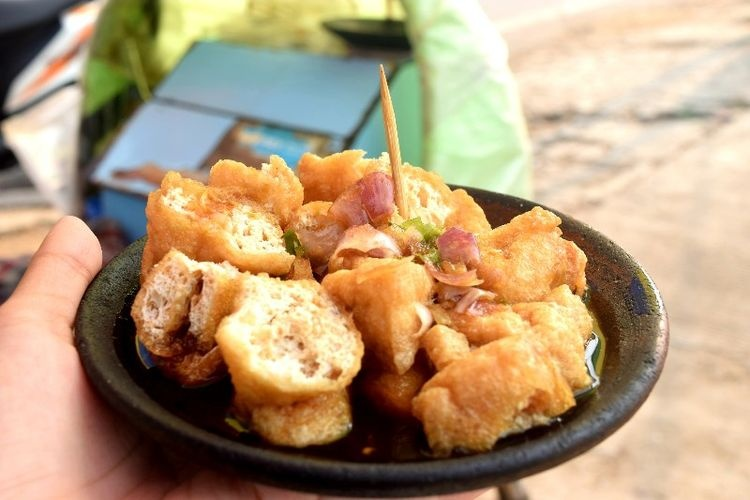tahu_gejrot: (137, 131, 595, 457)
